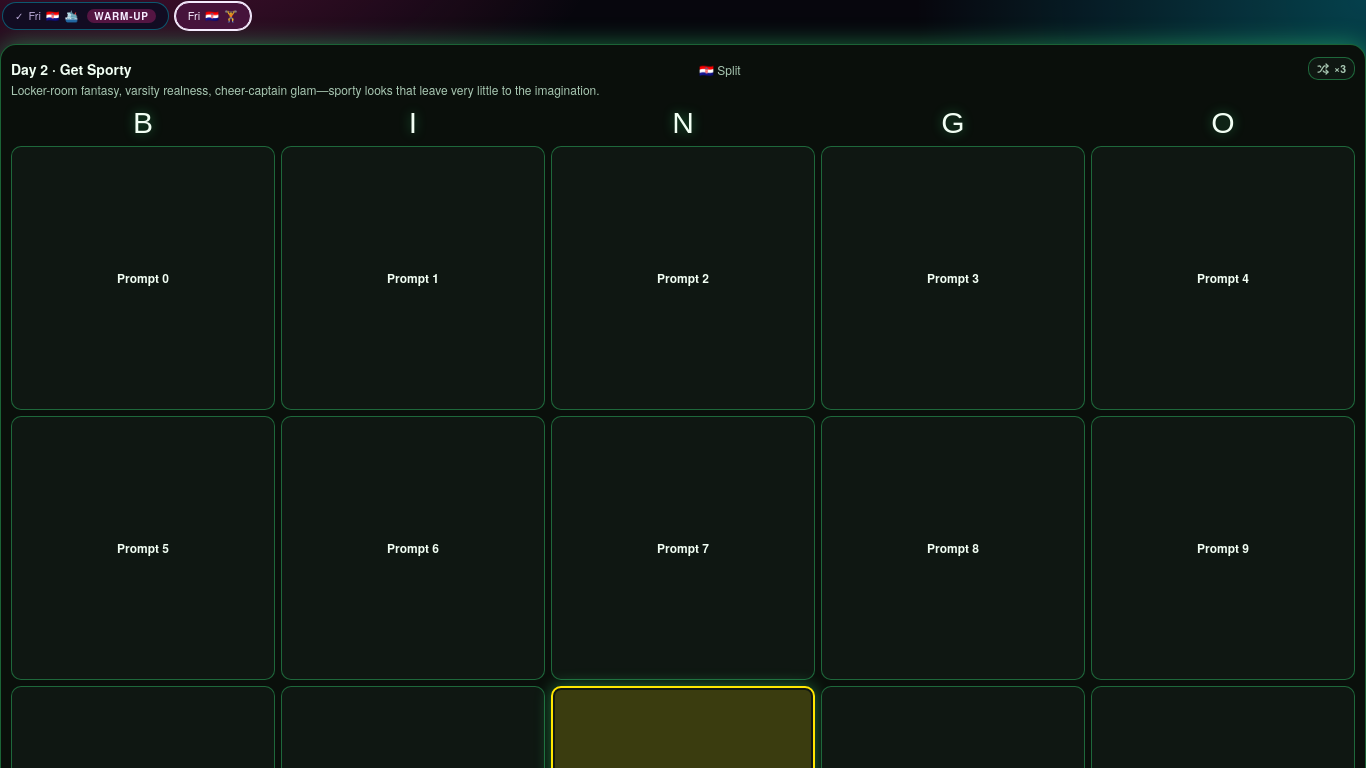
Test case: the chip opens the confirm sheet › tapping it reveals the sheet; the sheet writes nothing until confirmed
Click the button with class "reshuf" at {"x": 1332, "y": 68}, box [1308, 57, 1355, 80]
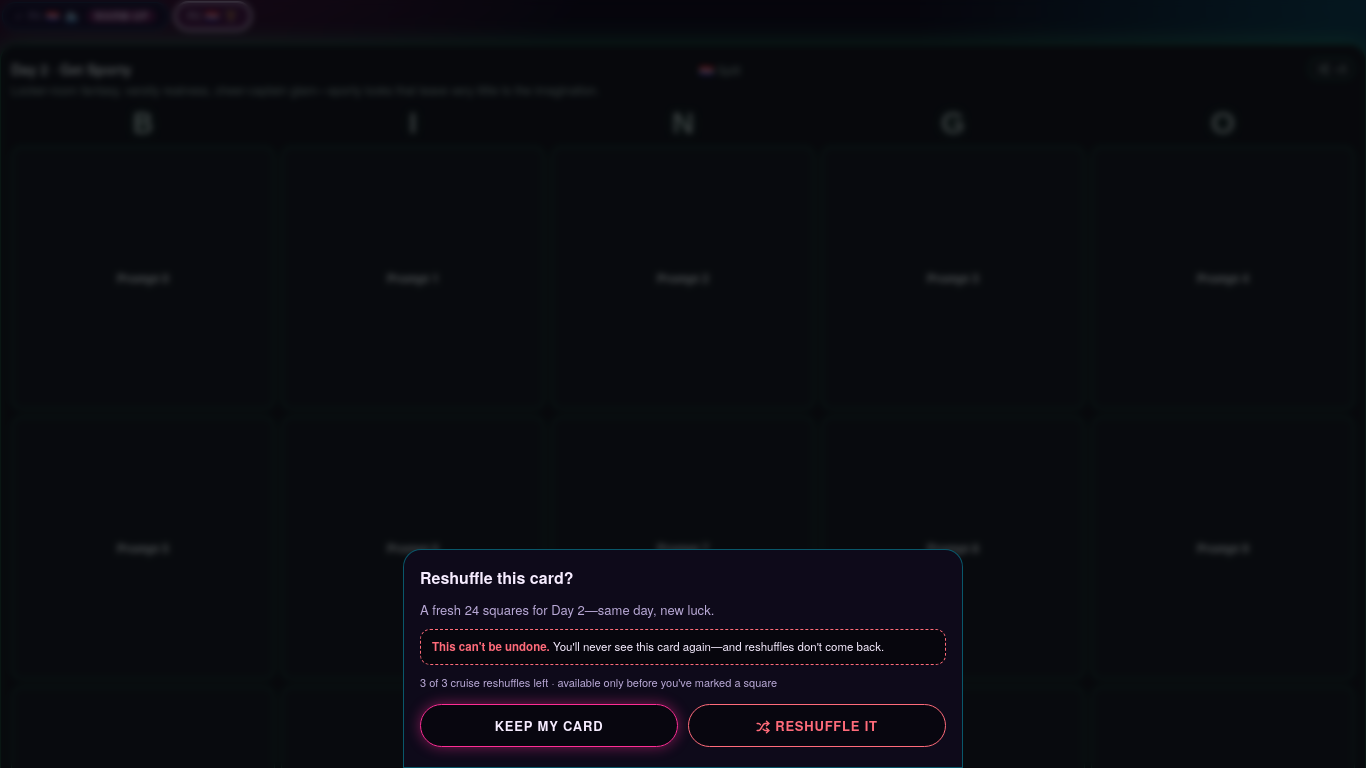
Now the text "Reshuffle this card?" is shown, box [420, 566, 574, 589]
